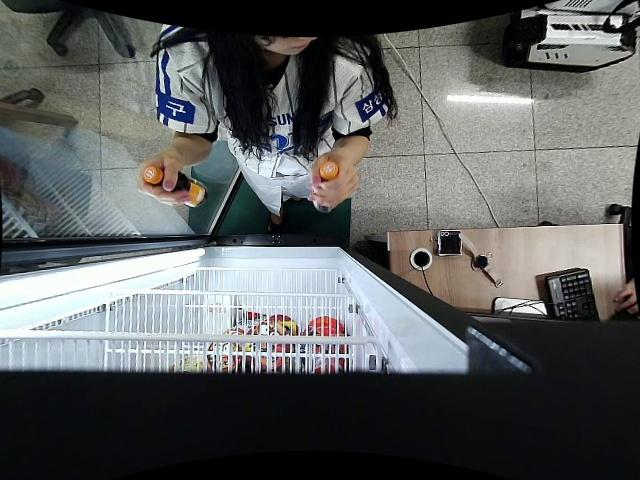00_hand: (137, 153, 194, 209), (305, 154, 359, 208)
17_vita500: (143, 163, 207, 210), (316, 160, 340, 184)
